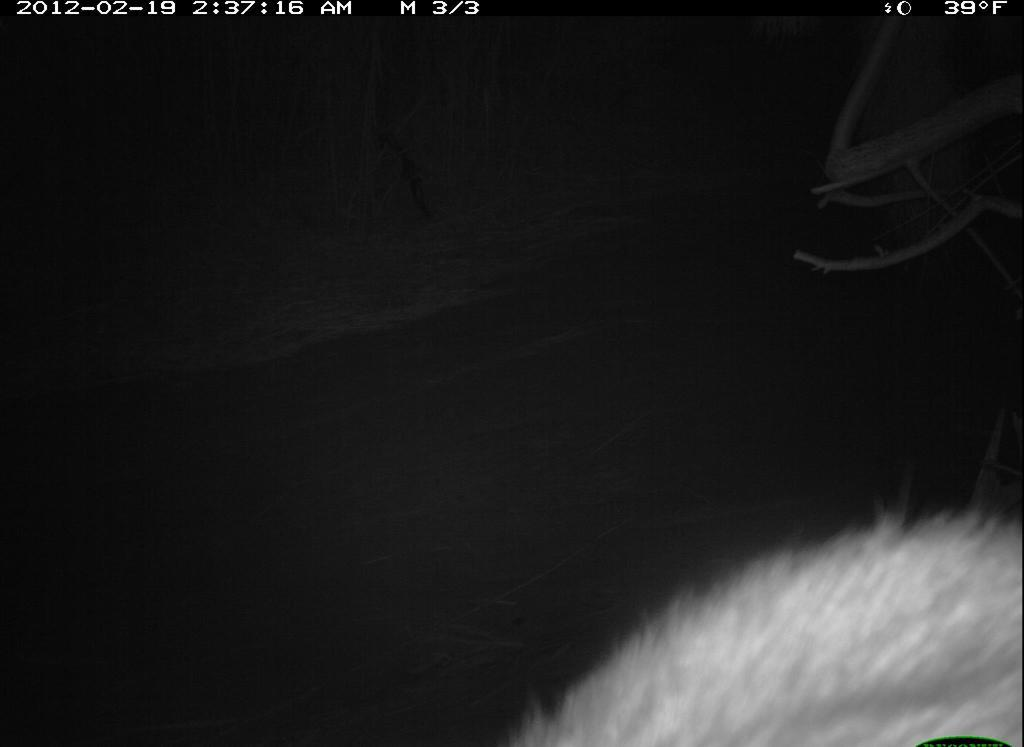raccoon: (466, 468, 1023, 747)
